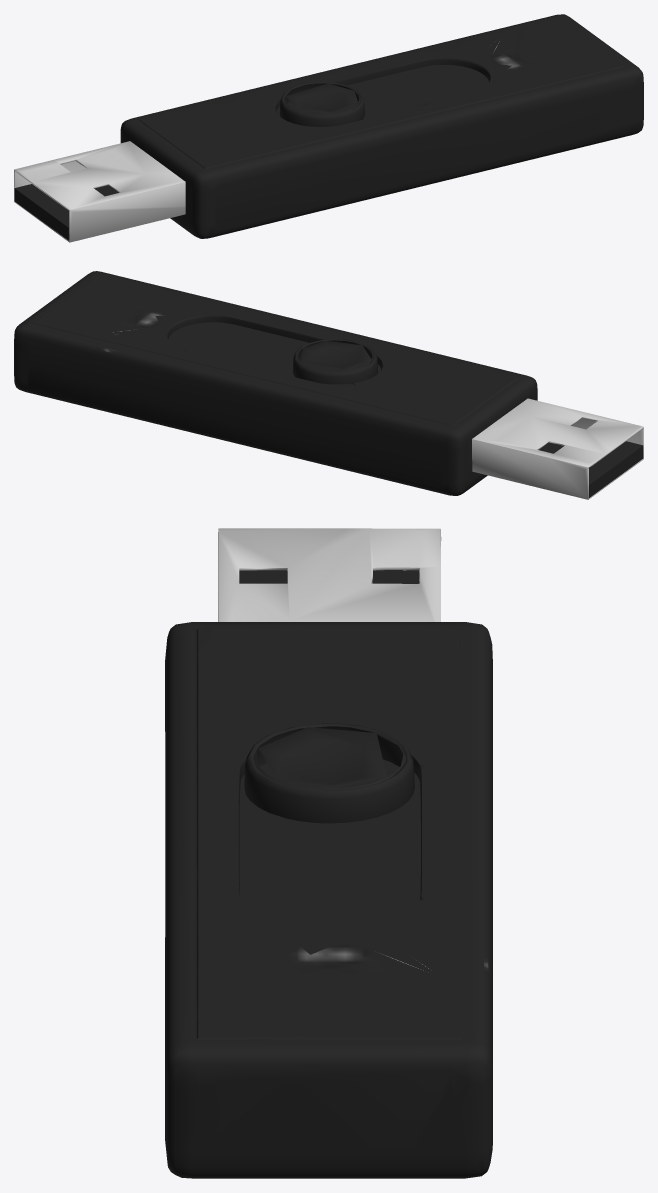
Rendered from dev-usb-flash_lod2.glb.
3 views of the same model, one above another, from view 1: azimuth 30°, elevation 25°; view 2: azimuth 150°, elevation 25°; view 3: azimuth 270°, elevation 25° (orthographic). The views are drawn at different scales.
Visible parts, largest first — view 1: body; view 2: body; view 3: body.
Part boxes in pixels (box(x1,y1,x2,y2)): body: box(14, 14, 643, 242); body: box(14, 271, 643, 499); body: box(165, 528, 492, 1178).
Size of the model in its own units: 0.06 by 0.00767 by 0.0151.
3 materials, 2 textured.
